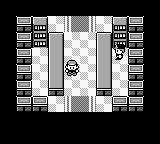main: (65, 61, 79, 75)
no-caminable: (0, 16, 159, 143), (16, 16, 49, 111), (113, 17, 144, 112), (48, 33, 64, 96), (96, 33, 112, 95), (32, 17, 48, 47), (113, 17, 128, 47)
npc: (114, 45, 126, 60)
puerta: (60, 16, 100, 33), (61, 95, 98, 112)
